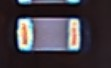COMP: (12, 14, 92, 56)
GAP: (18, 1, 80, 26)
